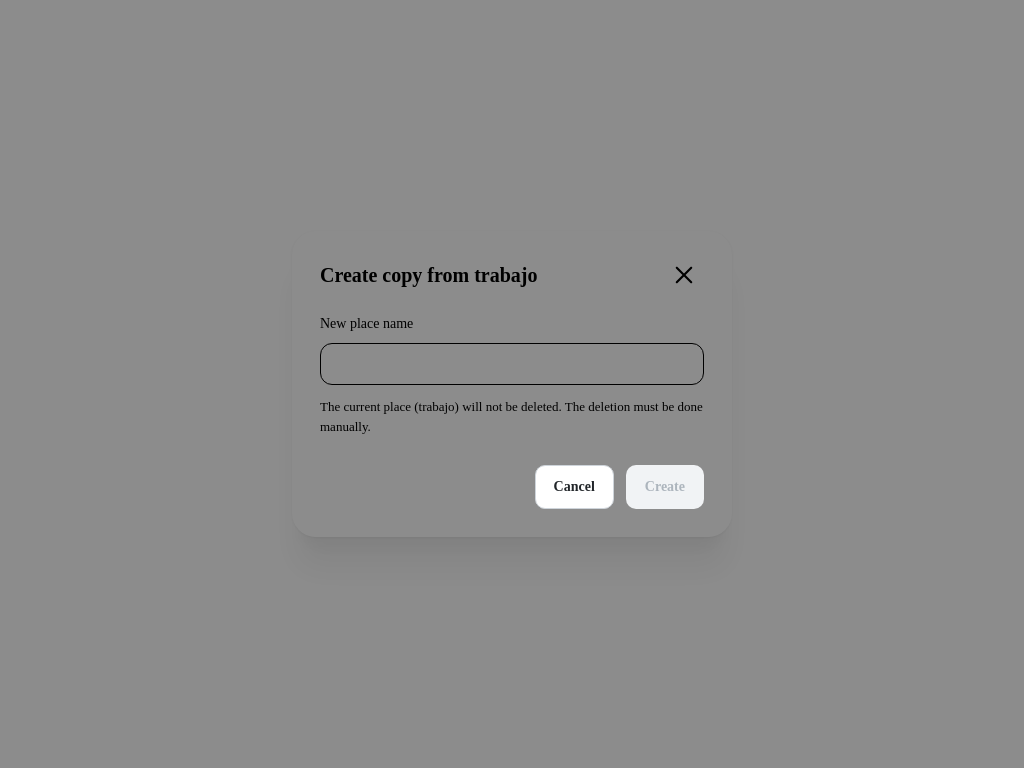
it: <ForkPlace /> › rejects a place name that already exists
The width and height of the screenshot is (1024, 768).
Type "casa" into the field labelled "New place name" at (512, 364), box [320,343,704,385]
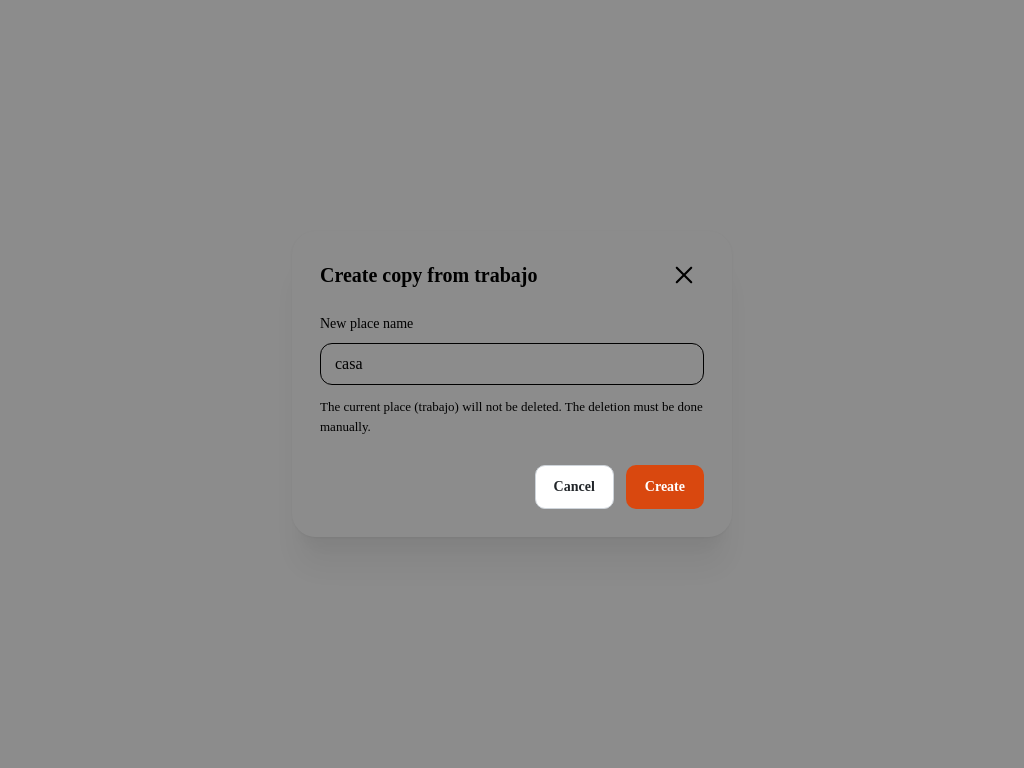
Click the button "Create" at (665, 487), box [626,465,704,509]
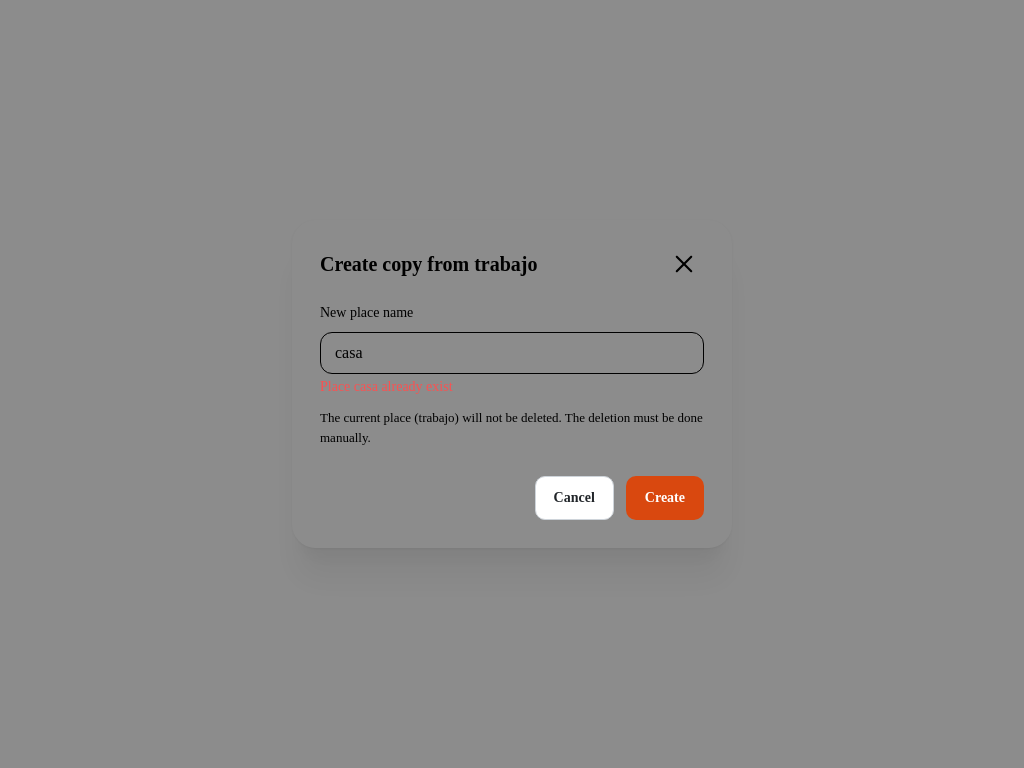
expect the text "Place casa already exist" is shown: met, box [320,379,452,394]
